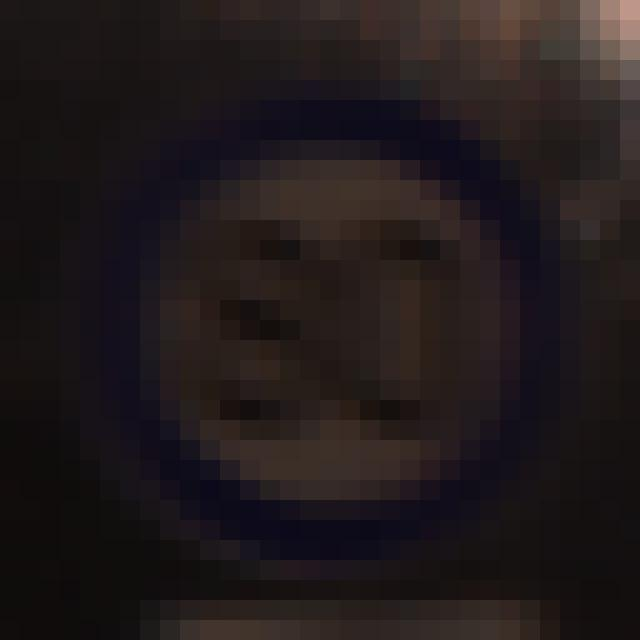SPEED-LIMIT-80: (100, 99, 534, 524)
